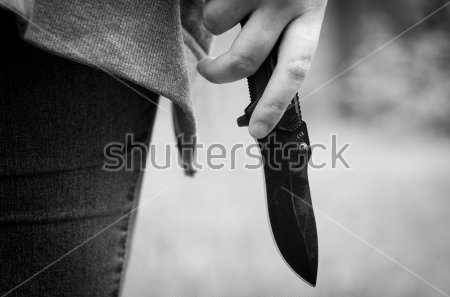knife: (198, 40, 322, 292)
